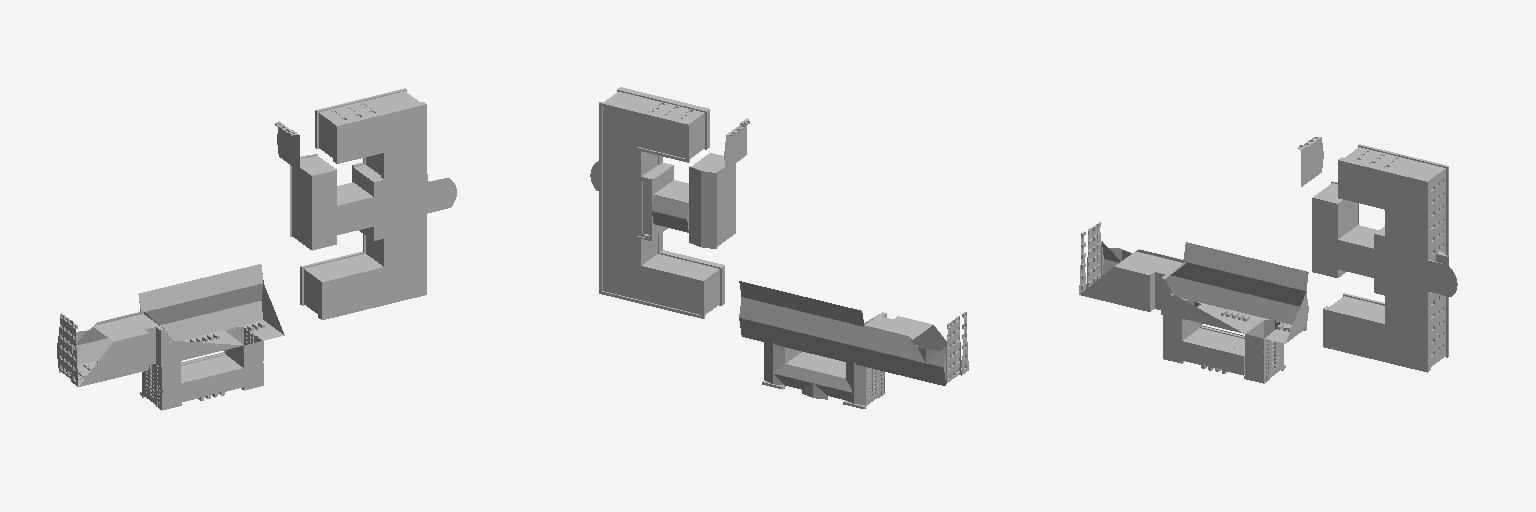
The model's file is UM jednadrugaia.obj.
3 views of the same model, side by side, from view 1: azimuth 30°, elevation 25°; view 2: azimuth 150°, elevation 25°; view 3: azimuth 330°, elevation 25° (orthographic).
Parts seen in each view (by area): view 1: UM_RADOM_CAŁY; view 2: UM_RADOM_CAŁY; view 3: UM_RADOM_CAŁY.
Part boxes in pixels (x1,y1,x2,y2): UM_RADOM_CAŁY: (57,88,456,410); UM_RADOM_CAŁY: (590,87,968,408); UM_RADOM_CAŁY: (1079,137,1457,383).
Bounding box in the file's own units: 0.0415 × 0.0255 × 0.0045.